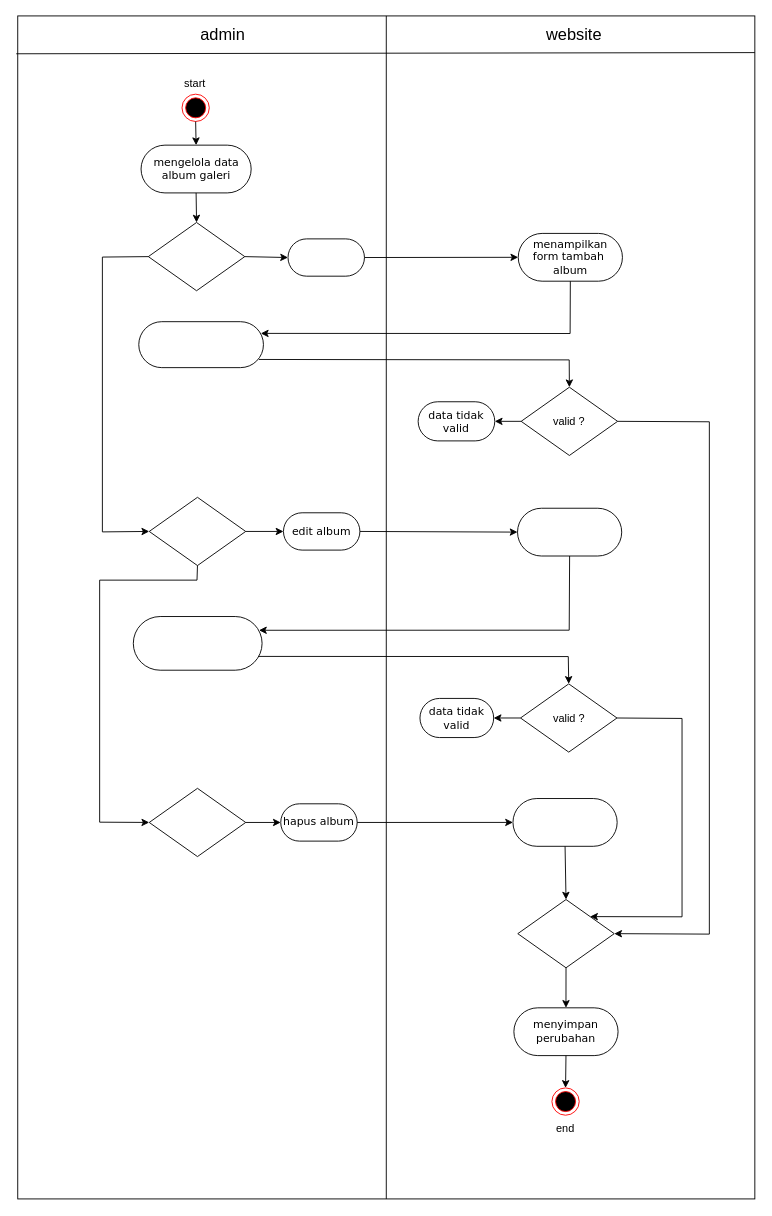
The diagram is 772 pixels wide and 1216 high, and some of its shapes have lost their labels. Each missing label, with the centre of its shape:
"menampilkan form edit album" goes at [569,531].
"mengedit judul, thumbnail dan menambahkan foto" goes at [197,643].
"menghapus data album" goes at [564,822].
"menginput judul dan thumbnail album" goes at [200,344].
"tambah album" goes at [325,257].
